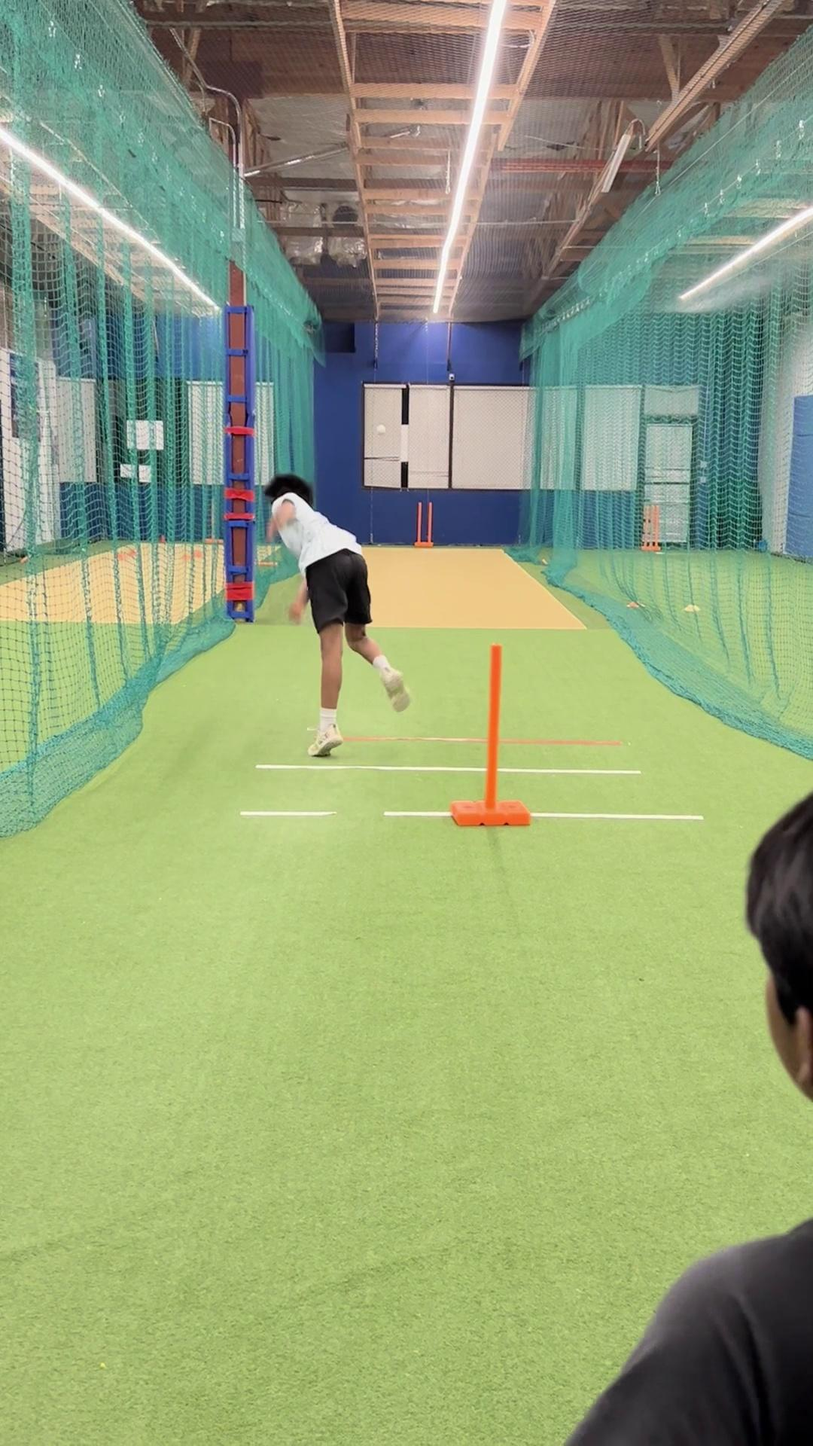ball: (372, 422, 390, 440)
